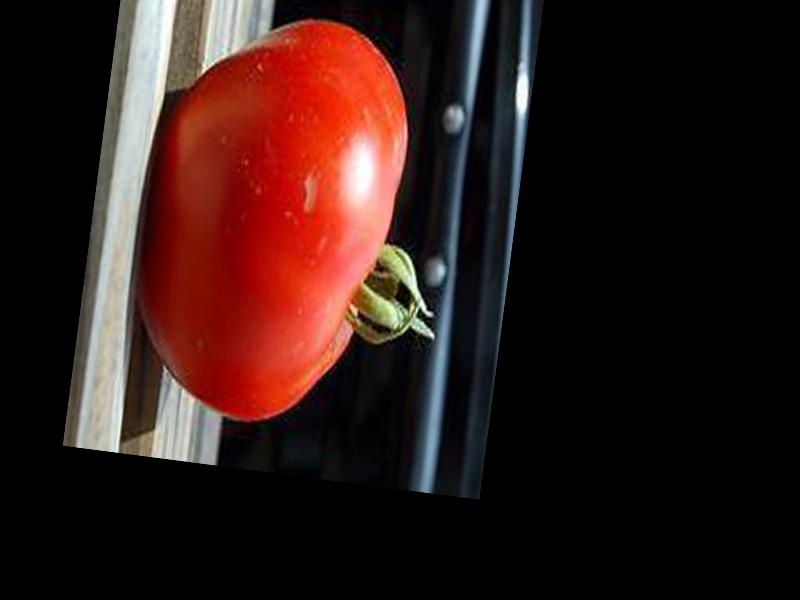Tomato: (125, 2, 470, 441)
